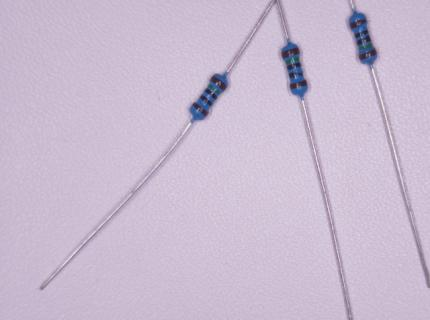Black band: (204, 88, 218, 101), (199, 95, 213, 107), (357, 35, 371, 46), (355, 29, 368, 38), (287, 63, 301, 71), (290, 72, 303, 78)
Brown band: (210, 75, 227, 92), (192, 103, 208, 117), (359, 50, 377, 61), (282, 47, 299, 58), (350, 19, 367, 30), (290, 80, 307, 90)
Green band: (208, 84, 221, 95), (285, 57, 299, 65), (359, 43, 372, 50)
